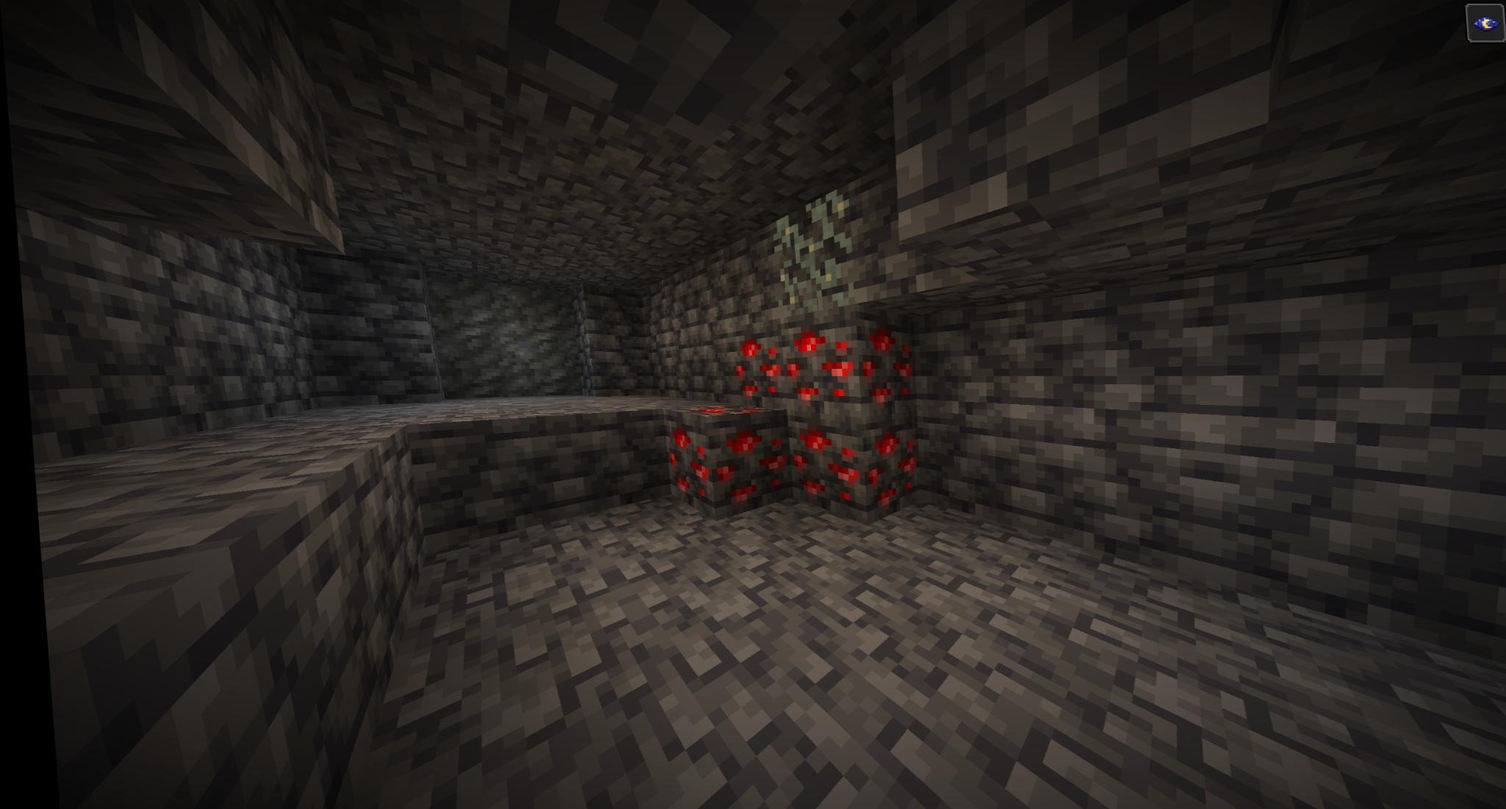redstone ore: (664, 327, 911, 503)
